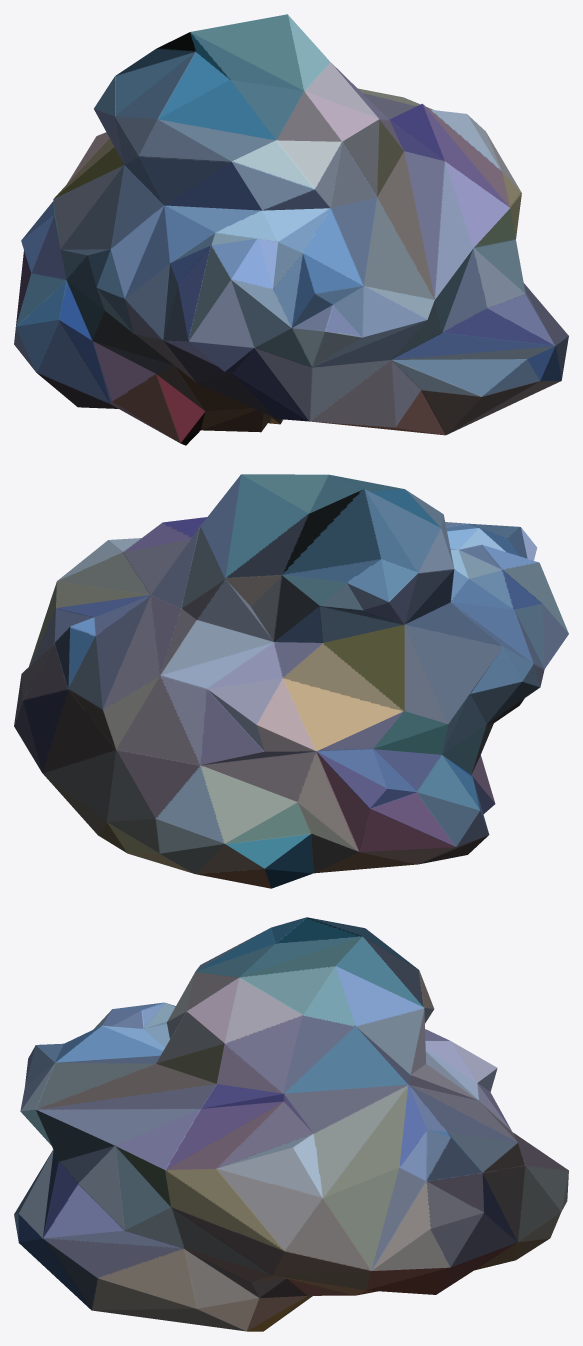
The model's file is hurricane.fbx.
3 views of the same model, one above another, from view 1: azimuth 30°, elevation 25°; view 2: azimuth 150°, elevation 25°; view 3: azimuth 270°, elevation 25° (orthographic). The views are drawn at different scales.
Visible parts, largest first — view 1: Mesh_0; view 2: Mesh_0; view 3: Mesh_0.
Boxes of the visible parts, box(x1,y1,x2,y2) form: Mesh_0: box(14, 14, 568, 445); Mesh_0: box(14, 474, 568, 888); Mesh_0: box(14, 917, 568, 1331).
Bounding box in the file's own units: 105 × 81.73 × 119.
Materials: 1 (1 with a texture image).
